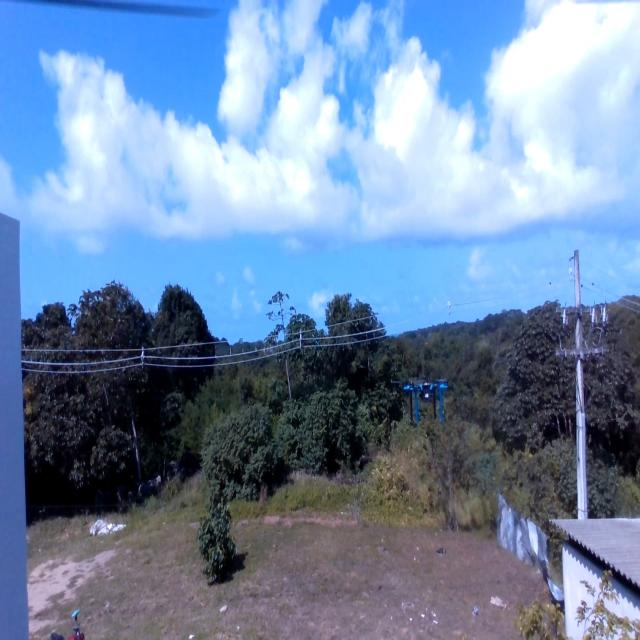-uav-: (396, 370, 460, 440)
